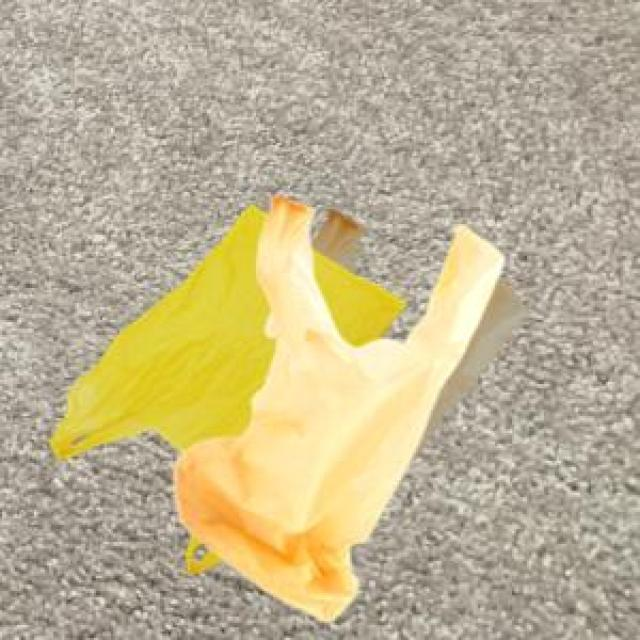waste: (51, 195, 520, 621)
